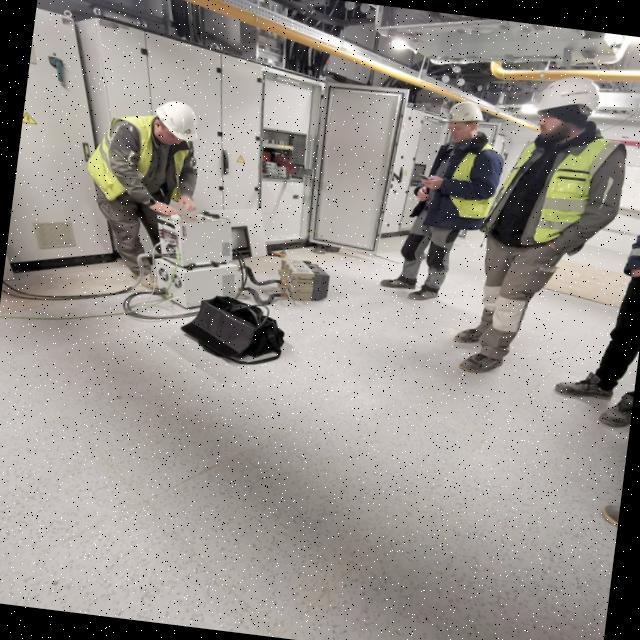Helmet: (532, 72, 604, 124), (151, 99, 204, 144), (441, 100, 488, 130)
Jacket: (500, 113, 606, 257), (93, 122, 186, 213), (424, 126, 495, 229)
